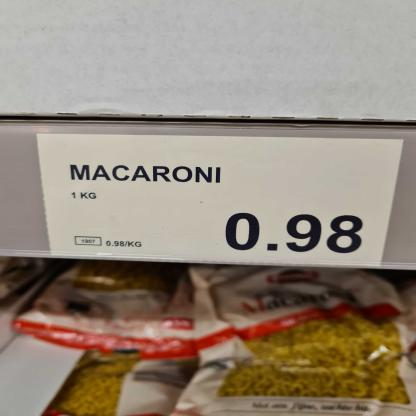prtg: (39, 135, 403, 266)
